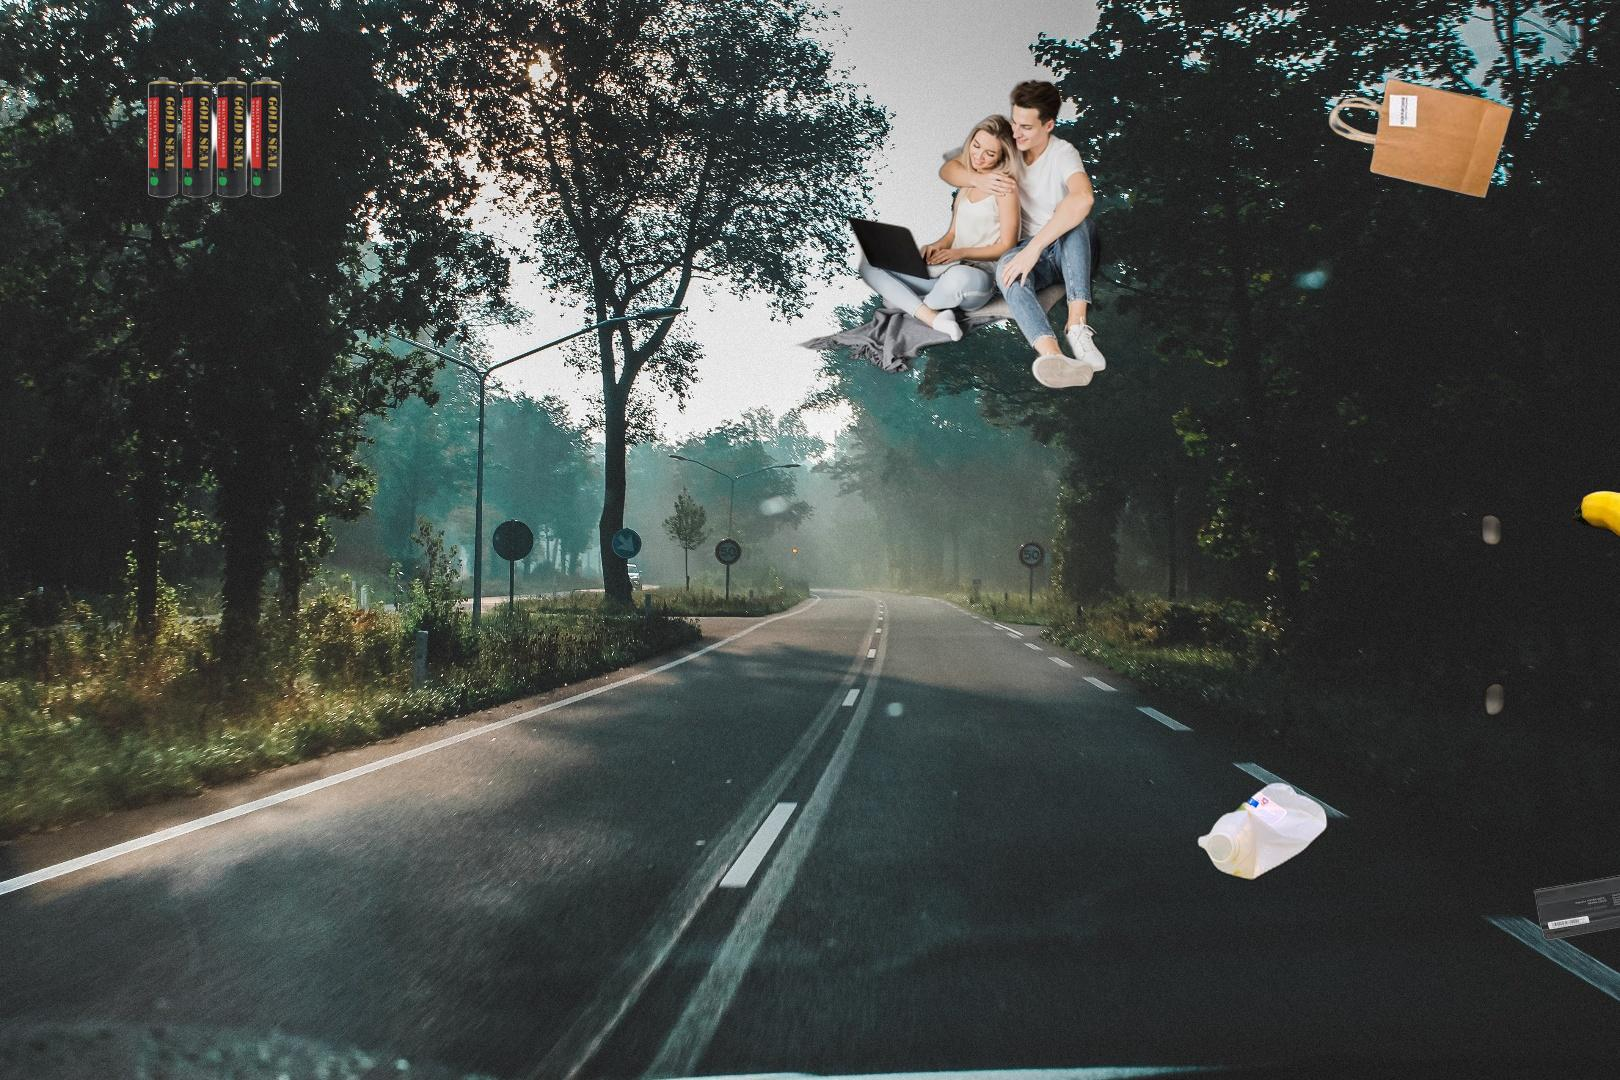battery: (145, 74, 284, 200), (1530, 852, 1620, 943)
biological: (1571, 482, 1620, 595)
paper-bag: (1325, 77, 1514, 201)
plastic-bottles: (984, 710, 1332, 886)
trashbox-cardboard: (787, 77, 1160, 393), (1478, 410, 1620, 768)
